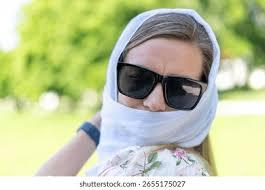scarf-kerchief: (86, 0, 246, 153)
sunglasses: (116, 60, 206, 113)
